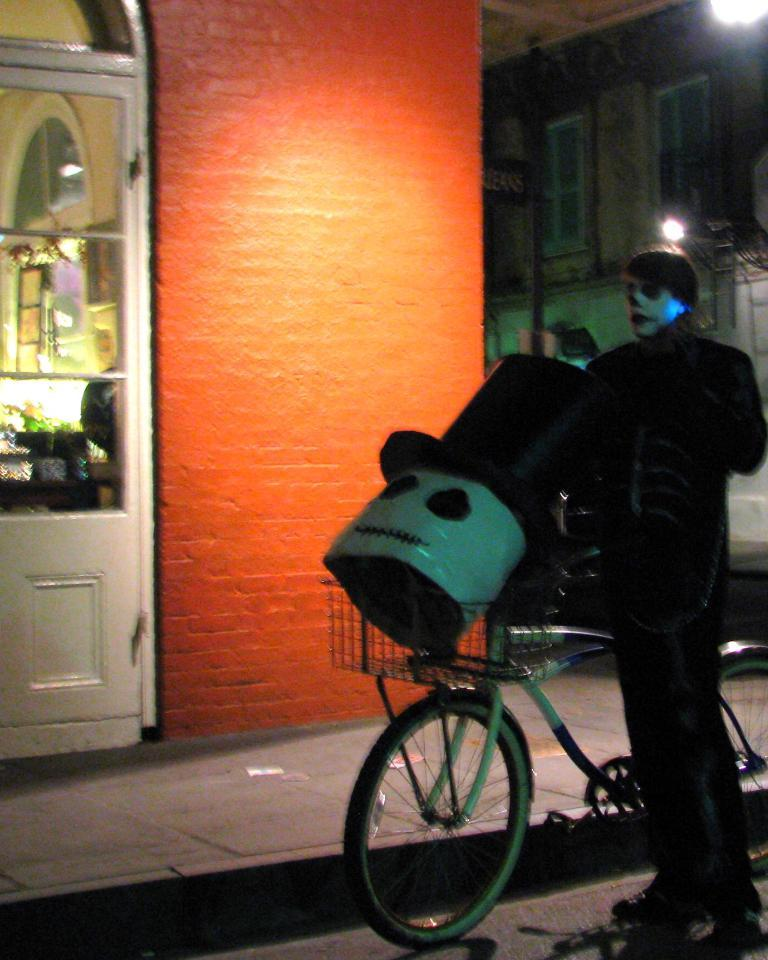Sem Máscara: (625, 270, 682, 335)
